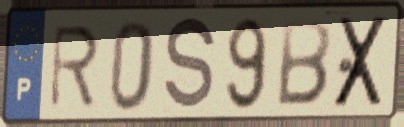0: (107, 17, 158, 114)
9: (223, 14, 272, 113)
B: (273, 17, 334, 109)
R: (47, 21, 102, 112)
S: (161, 13, 219, 116)
X: (330, 13, 392, 112)
